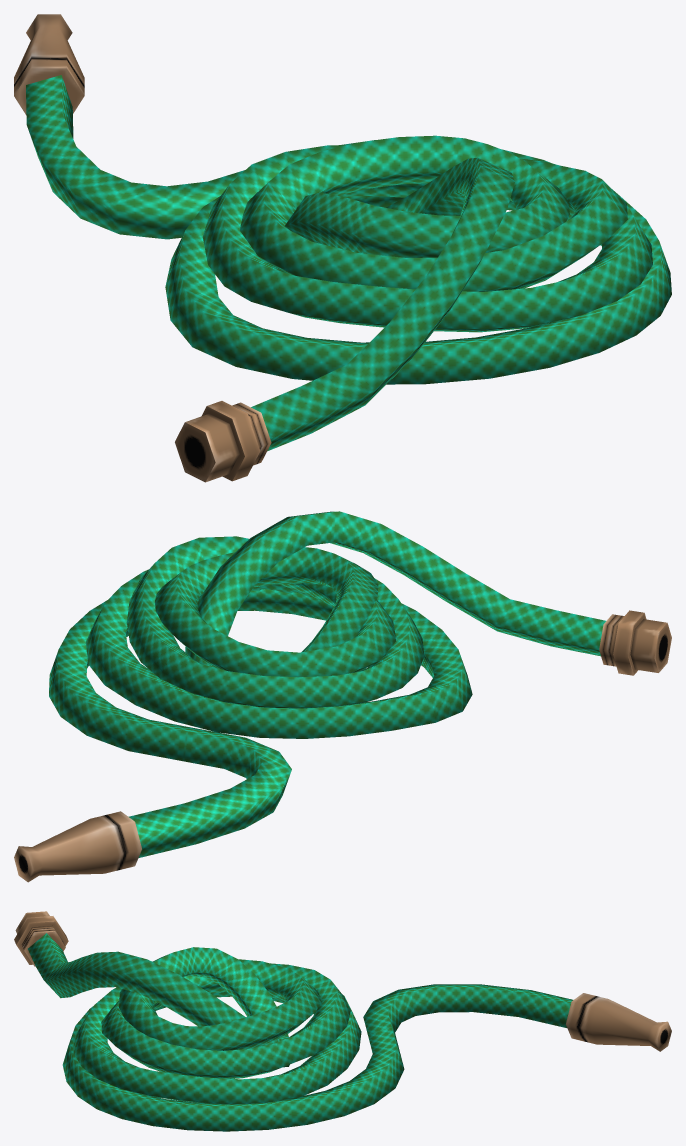
File: hose01.fbx
3 views of the same model, one above another, from view 1: azimuth 30°, elevation 25°; view 2: azimuth 150°, elevation 25°; view 3: azimuth 270°, elevation 25° (orthographic). The views are drawn at different scales.
Parts seen in each view (by area): view 1: hose01; view 2: hose01; view 3: hose01.
Part boxes in pixels (x1,y1,x2,y2): hose01: (14,14,671,482); hose01: (14,511,671,882); hose01: (14,911,671,1131).
Bounding box in the file's own units: 76.49 × 20.8 × 112.
